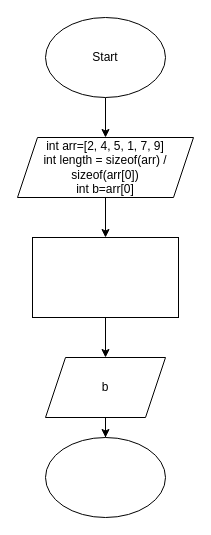
The diagram is 211 pixels wide and 535 high, and some of its shapes have lost their labels. The box of each missing label's shape, as (x1, y1, x2, y2) in pixels:
End: (44, 436, 166, 518)
for(int i=1: i<length: i++){ if(b>arr[i]){ b=arr[i] } }: (32, 236, 178, 318)
